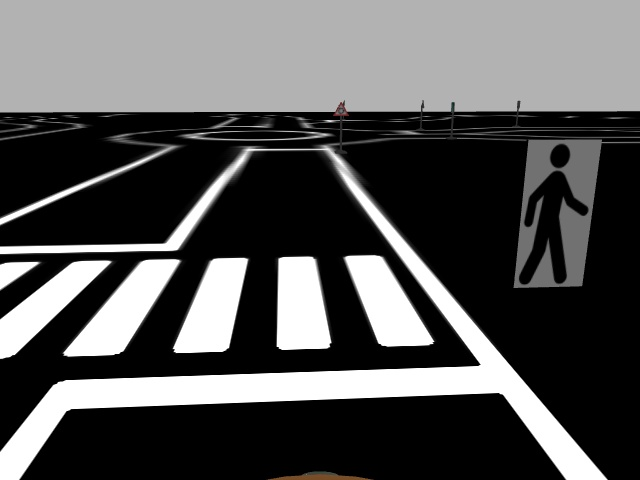pedestrian: (511, 138, 605, 291)
